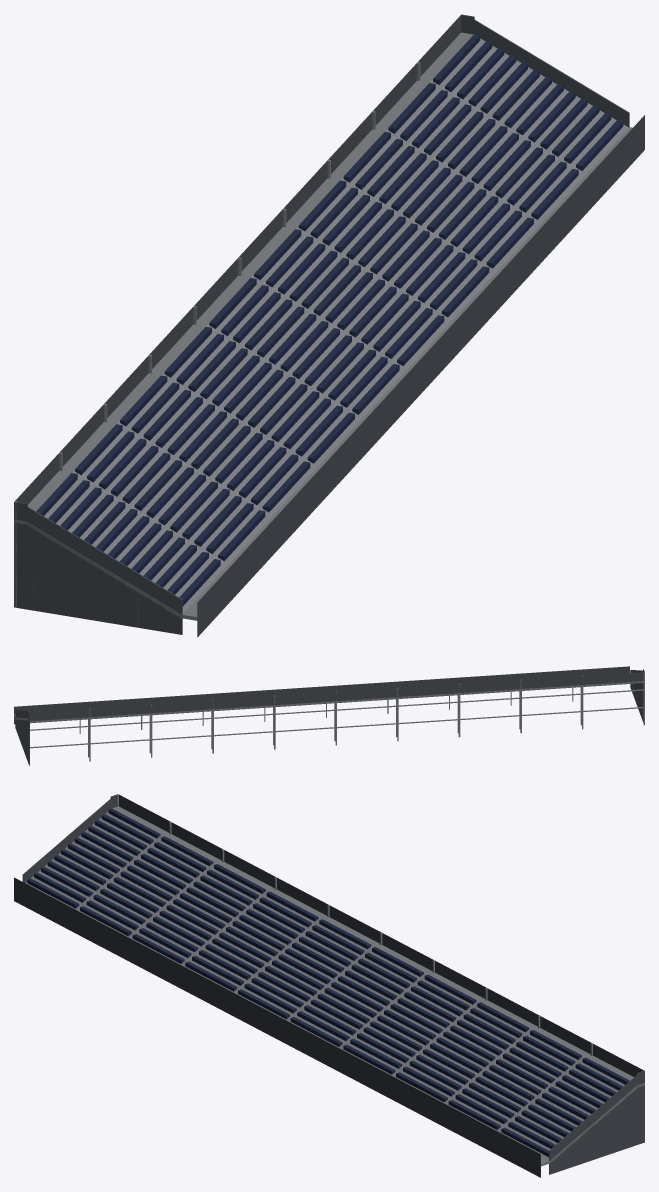
Rendered from sil_stand_village_a.glb.
3 views of the same model, one above another, from view 1: azimuth 30°, elevation 25°; view 2: azimuth 150°, elevation 25°; view 3: azimuth 270°, elevation 25° (orthographic). The views are drawn at different scales.
Parts seen in each view (by area): view 1: silverstone-village-a; view 2: silverstone-village-a; view 3: silverstone-village-a.
Boxes of the visible parts, <box> form: silverstone-village-a: <box>14,14,644,637</box>; silverstone-village-a: <box>14,666,644,765</box>; silverstone-village-a: <box>14,794,644,1177</box>.
Size of the model in its own units: 68.11 by 7.28 by 58.17.
